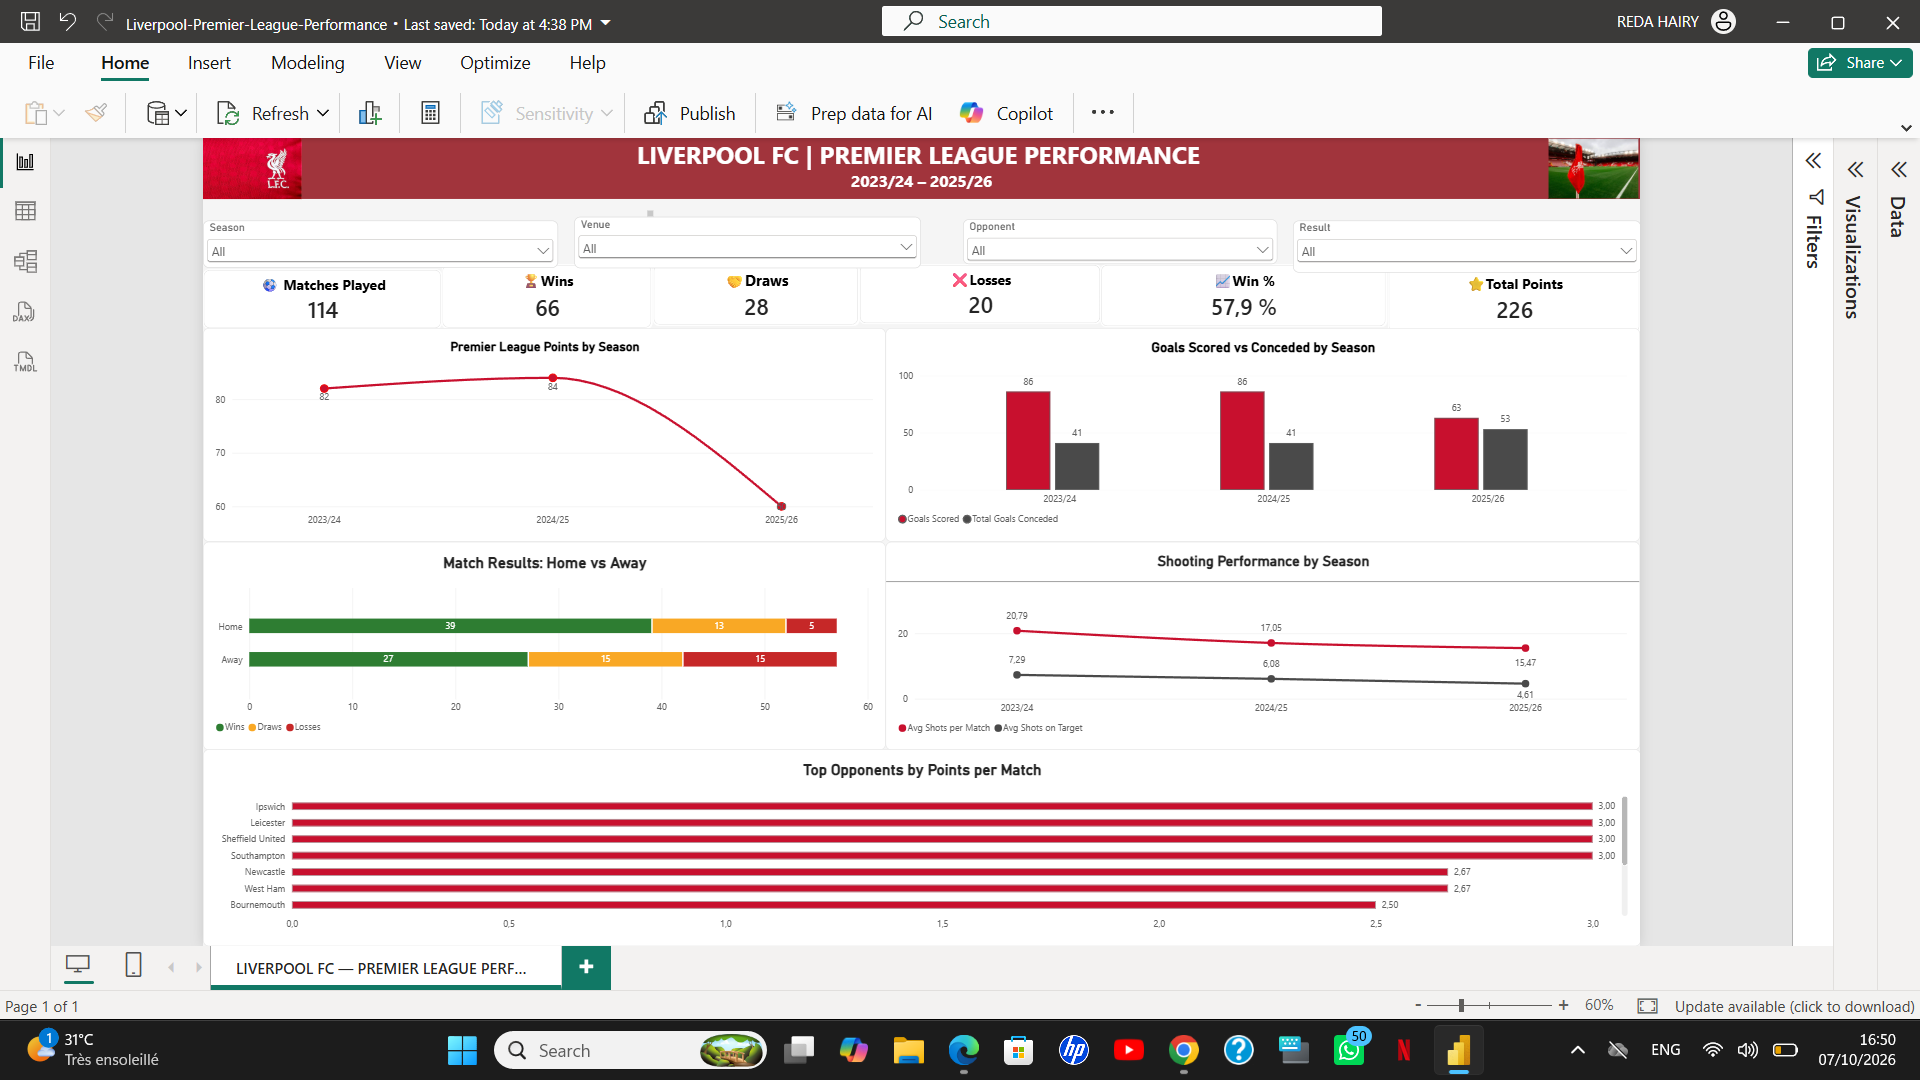

The dashboard page shown, as its layout file describes it:
{"tool":"powerbi","page":{"name":"LIVERPOOL FC — PREMIER LEAGUE PERFORMANCE             │ │                 2023/24 – 2025/26   ","canvas":[1920,1080],"ordinal":0},"visuals":[{"type":"cardVisual","fields":{"Data":["Liverpool Power BI Project (3).Matches Played"]},"box":[0,175.5,319,80.3],"z":0},{"type":"cardVisual","fields":{"Data":["Liverpool Power BI Project (3).Wins"]},"box":[319,169.2,282,86.4],"z":1000},{"type":"cardVisual","fields":{"Data":["Liverpool Power BI Project (3).Draws"]},"box":[600.9,169.2,275.8,82.3],"z":2000},{"type":"cardVisual","fields":{"Data":["Liverpool Power BI Project (3).Losses"]},"box":[876.6,169.2,323.2,80.3],"z":3000},{"type":"cardVisual","fields":{"Data":["Liverpool Power BI Project (3).Win %"]},"box":[1199.7,169.2,382.8,84.4],"z":4000},{"type":"cardVisual","fields":{"Data":["Liverpool Power BI Project (3).Total Points"]},"box":[1582.4,169.2,337.6,92.6],"z":5000},{"type":"lineChart","title":"Premier League Points by Season","fields":{"Category":["Liverpool Power BI Project (3).Season"],"Y":["Liverpool Power BI Project (3).Total Points"]},"box":[0,253.4,912.1,285.9],"z":6000},{"type":"clusteredColumnChart","title":"Goals Scored vs Conceded by Season","fields":{"Category":["Liverpool Power BI Project (3).Season"],"Y":["Liverpool Power BI Project (3).Goals Scored","Liverpool Power BI Project (3).Total Goals Conceded"]},"box":[912.1,253.4,1008,285.9],"z":7000},{"type":"barChart","title":"Match Results: Home vs Away","fields":{"Category":["Liverpool Power BI Project (3).Venue"],"Y":["Liverpool Power BI Project (3).Wins","Liverpool Power BI Project (3).Draws","Liverpool Power BI Project (3).Losses"]},"box":[0,539.3,912.1,278.7],"z":8000},{"type":"lineChart","title":"Shooting Performance by Season","fields":{"Category":["Liverpool Power BI Project (3).Season"],"Y":["Liverpool Power BI Project (3).Avg Shots per Match","Liverpool Power BI Project (3).Avg Shots on Target"]},"box":[912.1,539.3,1008,278.7],"z":9000},{"type":"clusteredBarChart","title":"Top Opponents by Points per Match","fields":{"Category":["Liverpool Power BI Project (3).Opponent"],"Y":["Liverpool Power BI Project (3).Points per Match"]},"box":[0,817.2,1920.4,263.5],"z":10000},{"type":"slicer","fields":{"Values":["Liverpool Power BI Project (3).Season"]},"box":[0,110.4,474.1,63.3],"z":11000},{"type":"slicer","fields":{"Values":["Liverpool Power BI Project (3).Venue"]},"box":[495.8,105,463.3,68.8],"z":12000},{"type":"slicer","fields":{"Values":["Liverpool Power BI Project (3).Opponent"]},"box":[1015.2,108.6,419.8,59.7],"z":13000},{"type":"slicer","fields":{"Values":["Liverpool Power BI Project (3).Result"]},"box":[1455.2,109.5,465.2,70],"z":14000},{"type":"shape","box":[132.1,0,1787.9,81.4],"z":15000},{"type":"textbox","box":[0,0,1920.1,81.4],"z":16000},{"type":"textbox","box":[131.7,96.7,469.3,8.2],"z":17000},{"type":"image","box":[0,0,132.1,81.4],"z":18000},{"type":"image","box":[1795.2,0,124.9,81.4],"z":19000}]}

Visuals, with their boxes on the page's 1920x1080 design canvas (x1, y1, x2, y2). These are canvas units, not pixel positions in the 1920x1080 screenshot, which may show the page scaled, cropped or inside an application window:
cardVisual - Liverpool Power BI Project (3).Matches Played: pyautogui.locateOnScreen(0, 176, 319, 256)
cardVisual - Liverpool Power BI Project (3).Wins: pyautogui.locateOnScreen(319, 169, 601, 256)
cardVisual - Liverpool Power BI Project (3).Draws: pyautogui.locateOnScreen(601, 169, 877, 252)
cardVisual - Liverpool Power BI Project (3).Losses: pyautogui.locateOnScreen(877, 169, 1200, 250)
cardVisual - Liverpool Power BI Project (3).Win %: pyautogui.locateOnScreen(1200, 169, 1582, 254)
cardVisual - Liverpool Power BI Project (3).Total Points: pyautogui.locateOnScreen(1582, 169, 1920, 262)
"Premier League Points by Season" lineChart: pyautogui.locateOnScreen(0, 253, 912, 539)
"Goals Scored vs Conceded by Season" clusteredColumnChart: pyautogui.locateOnScreen(912, 253, 1920, 539)
"Match Results: Home vs Away" barChart: pyautogui.locateOnScreen(0, 539, 912, 818)
"Shooting Performance by Season" lineChart: pyautogui.locateOnScreen(912, 539, 1920, 818)
"Top Opponents by Points per Match" clusteredBarChart: pyautogui.locateOnScreen(0, 817, 1920, 1081)
slicer - Liverpool Power BI Project (3).Season: pyautogui.locateOnScreen(0, 110, 474, 174)
slicer - Liverpool Power BI Project (3).Venue: pyautogui.locateOnScreen(496, 105, 959, 174)
slicer - Liverpool Power BI Project (3).Opponent: pyautogui.locateOnScreen(1015, 109, 1435, 168)
slicer - Liverpool Power BI Project (3).Result: pyautogui.locateOnScreen(1455, 110, 1920, 180)
shape: pyautogui.locateOnScreen(132, 0, 1920, 81)
textbox: pyautogui.locateOnScreen(0, 0, 1920, 81)
textbox: pyautogui.locateOnScreen(132, 97, 601, 105)
image: pyautogui.locateOnScreen(0, 0, 132, 81)
image: pyautogui.locateOnScreen(1795, 0, 1920, 81)
